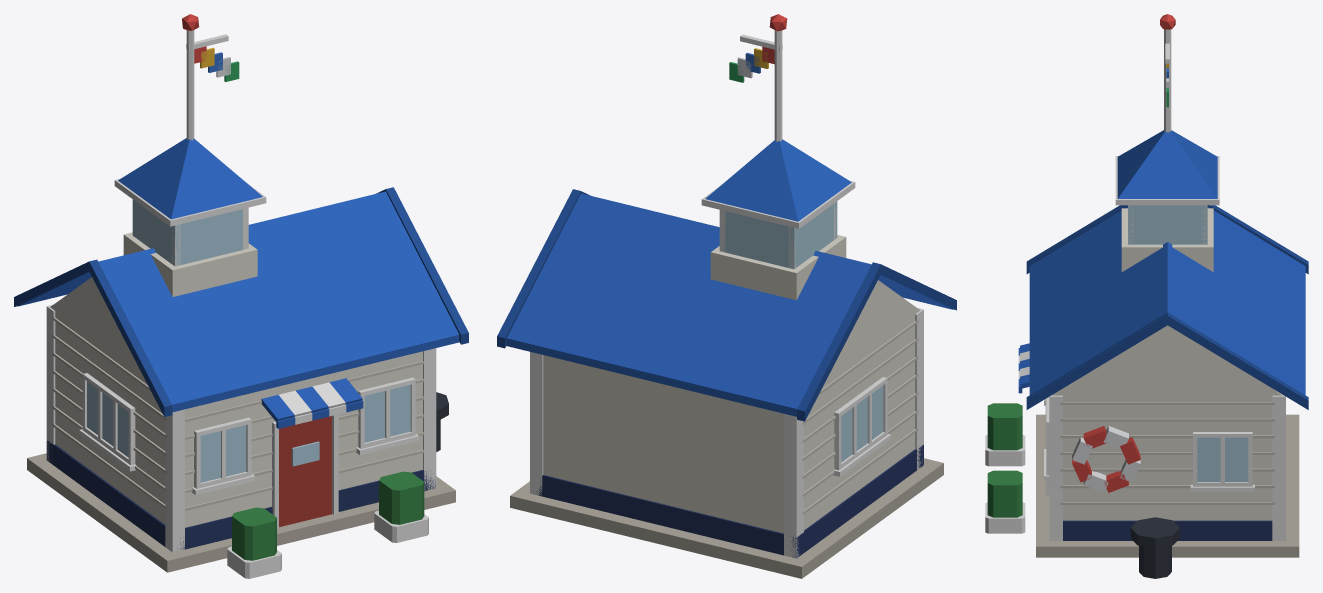
Rendered from harbor_office.glb.
3 renders of one model, left to right at view 1: azimuth 30°, elevation 25°; view 2: azimuth 150°, elevation 25°; view 3: azimuth 270°, elevation 25°, orthographic. The views are drawn at different scales.
Parts seen in each view (by area): view 1: harbor_office; view 2: harbor_office; view 3: harbor_office.
Part boxes in pixels (bbox=[...]): harbor_office: bbox=[14, 14, 468, 578]; harbor_office: bbox=[497, 14, 956, 578]; harbor_office: bbox=[985, 14, 1308, 578].
Size of the model in its own units: 6.19 by 8.18 by 5.28.
